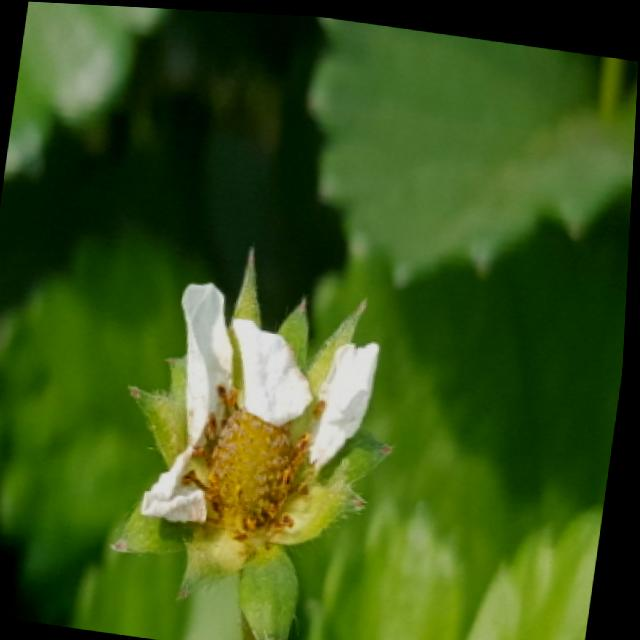Blossom Blight: (180, 378, 334, 541)
